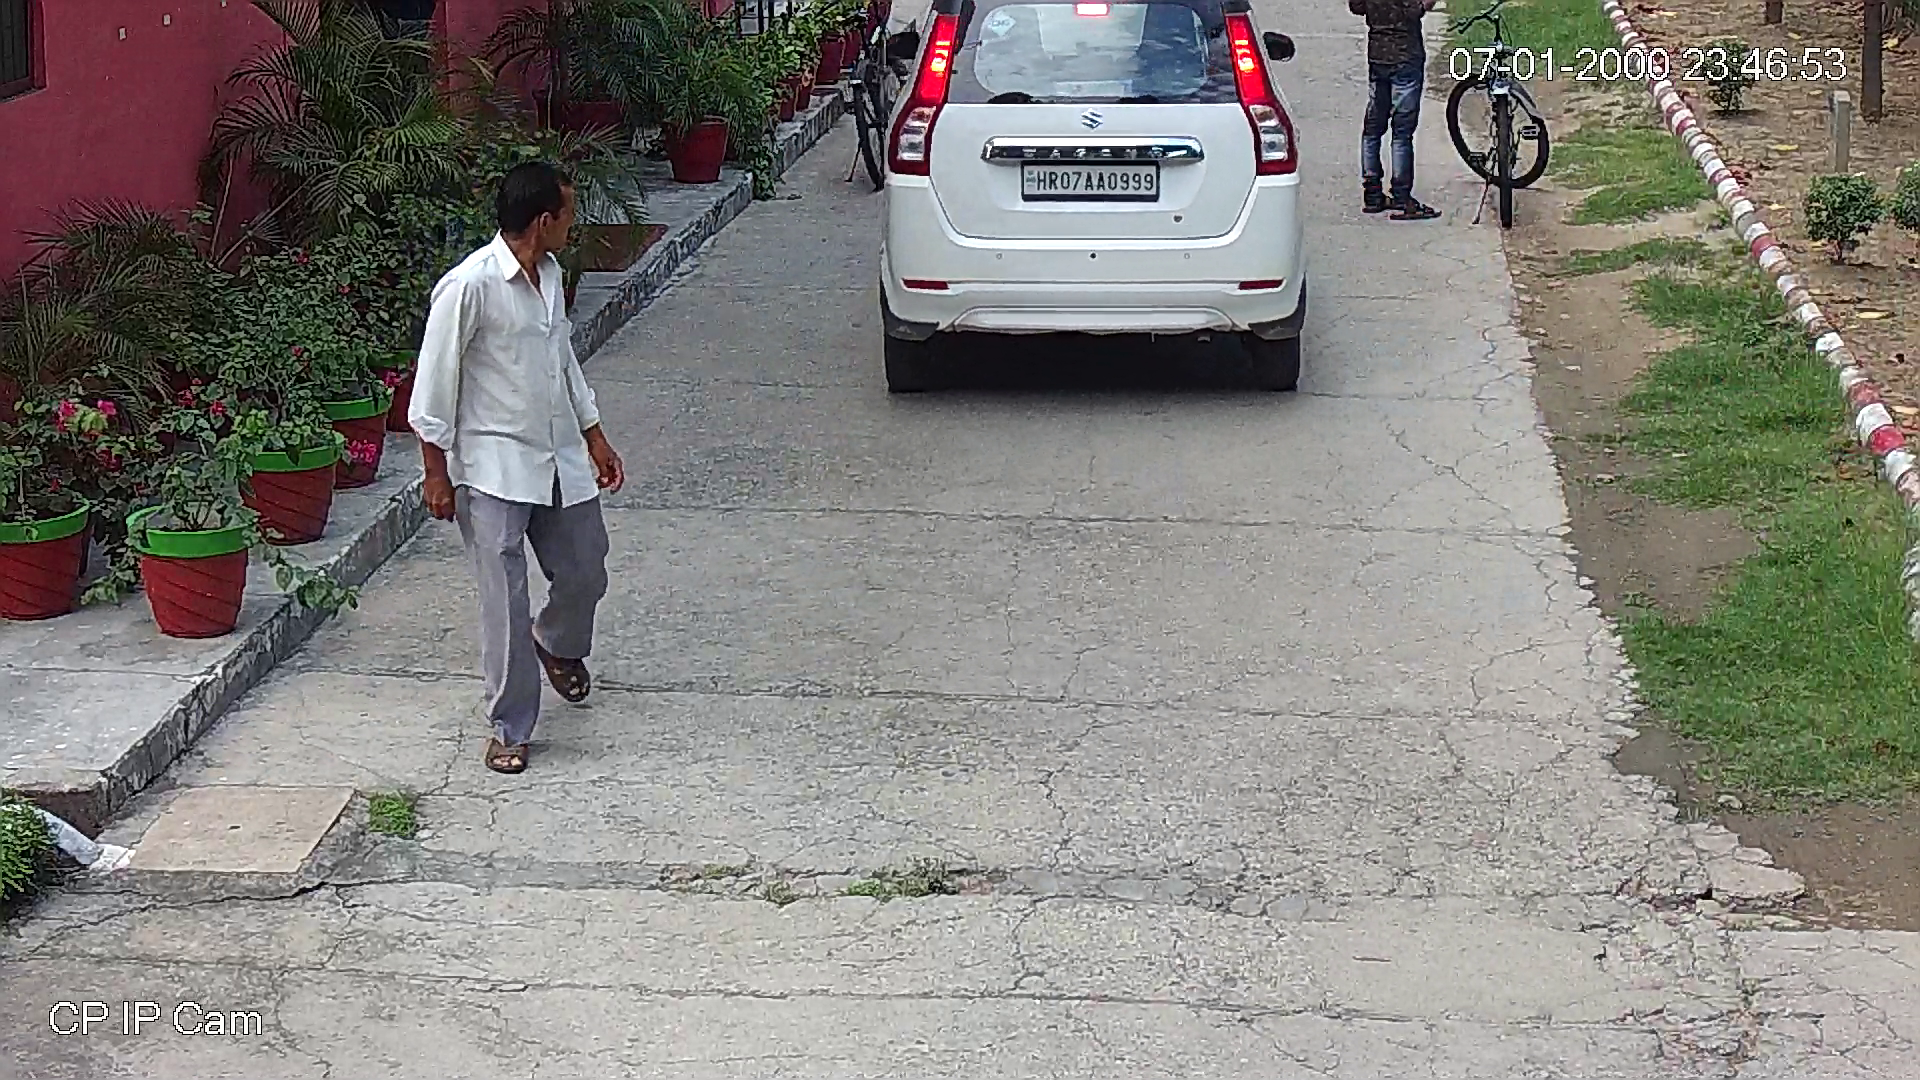plate: (1013, 161, 1166, 199)
